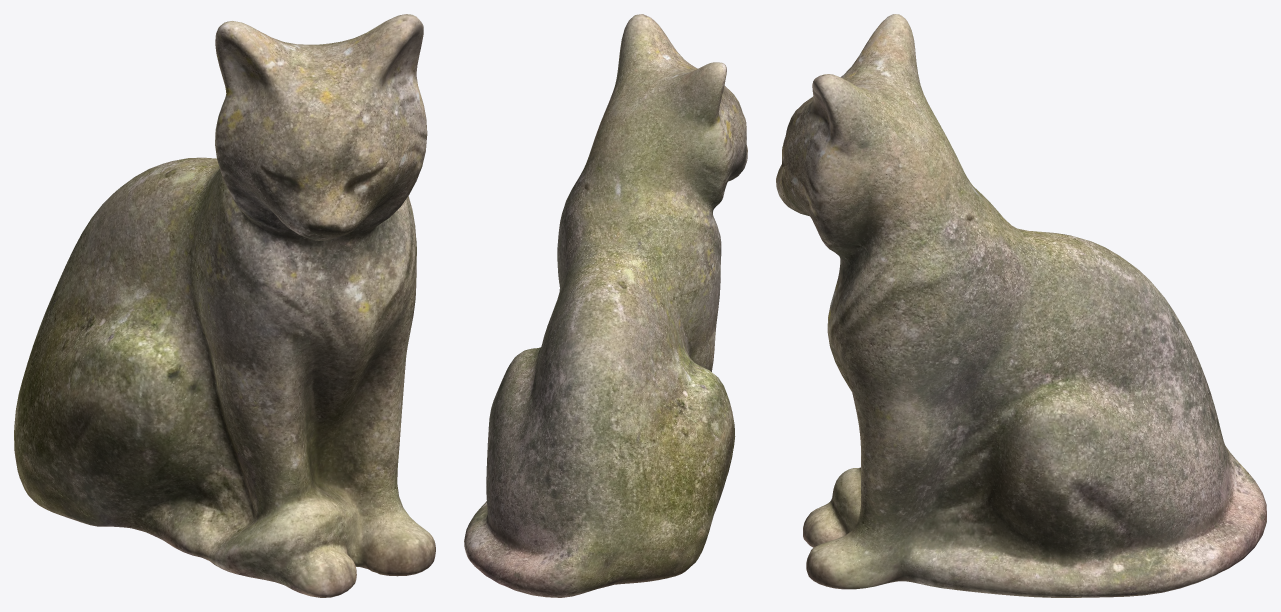
Rendered from nature-cat-statue.glb.
The picture shows the model from 3 angles, left to right: view 1: azimuth 30°, elevation 25°; view 2: azimuth 150°, elevation 25°; view 3: azimuth 270°, elevation 25°; orthographic projection. The views are drawn at different scales.
Parts seen in each view (by area): view 1: concrete_cat_statue; view 2: concrete_cat_statue; view 3: concrete_cat_statue.
Boxes of the visible parts, x1,y1,x2,y2 form: concrete_cat_statue: (14,14,435,597); concrete_cat_statue: (464,14,747,597); concrete_cat_statue: (776,14,1266,597).
Size of the model in its own units: 0.153 by 0.283 by 0.25.
Materials: 1 (1 with a texture image).
